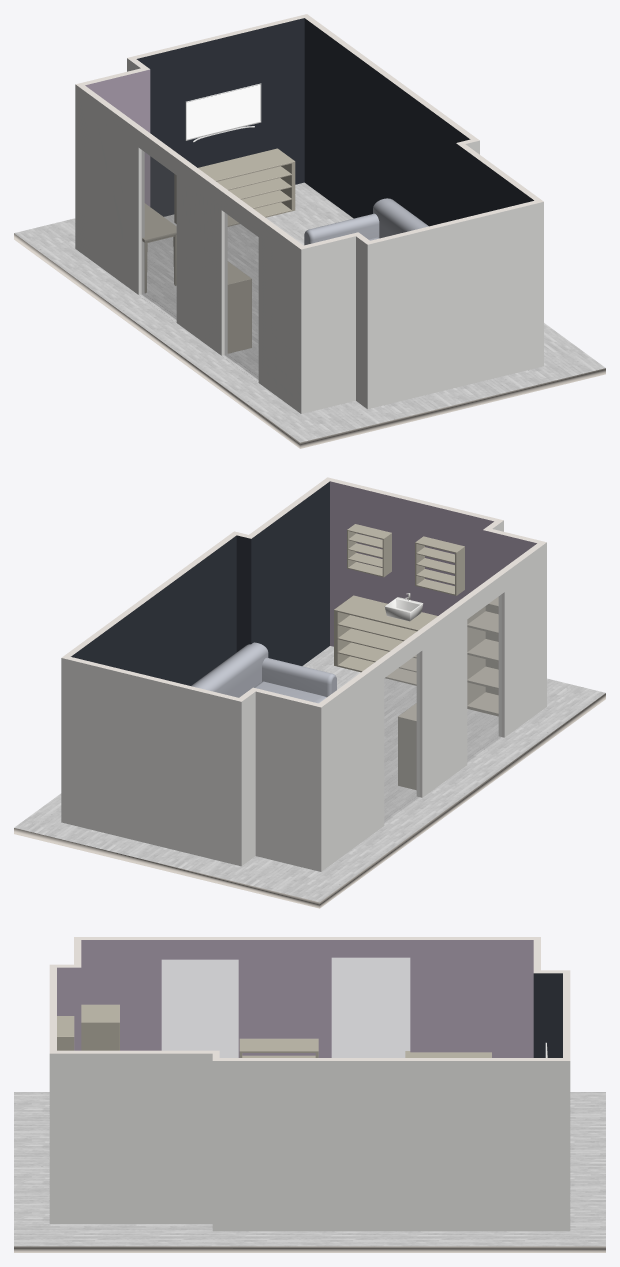
File: room.gltf
The picture shows the model from 3 angles, top to bottom: view 1: azimuth 30°, elevation 25°; view 2: azimuth 150°, elevation 25°; view 3: azimuth 270°, elevation 25°; orthographic projection. The views are drawn at different scales.
Visible parts, largest first — view 1: wall_2, wall_6, floor_0, wall_9, wall_3, wall_0, door_0, door_1, object_9, wall_7, object_6, wall_5 (+4 smaller); view 2: wall_3, wall_6, floor_0, wall_9, wall_2, wall_7, wall_5, door_0, door_1, object_5, object_7, object_3 (+7 smaller); view 3: wall_9, wall_6, wall_7, floor_0, door_0, door_1, wall_4, object_3, wall_1, object_0, wall_3, wall_2 (+2 smaller).
Boxes of the visible parts, x1=… form: wall_2: x1=367, y1=200, x2=543, y2=408; wall_6: x1=75, y1=84, x2=303, y2=413; floor_0: x1=14, y1=182, x2=605, y2=448; wall_9: x1=304, y1=14, x2=479, y2=226; wall_3: x1=128, y1=14, x2=306, y2=216; wall_0: x1=301, y1=232, x2=357, y2=413; door_0: x1=142, y1=150, x2=176, y2=319; door_1: x1=225, y1=213, x2=258, y2=379; object_9: x1=174, y1=148, x2=295, y2=226; wall_7: x1=456, y1=143, x2=543, y2=219; object_6: x1=185, y1=83, x2=261, y2=142; wall_5: x1=76, y1=68, x2=150, y2=206; wall_3: x1=61, y1=657, x2=241, y2=866; wall_6: x1=319, y1=542, x2=546, y2=871; floor_0: x1=14, y1=646, x2=605, y2=908; wall_9: x1=61, y1=531, x2=236, y2=685; wall_2: x1=328, y1=477, x2=502, y2=646; wall_7: x1=249, y1=477, x2=329, y2=665; wall_5: x1=253, y1=687, x2=321, y2=871; door_0: x1=384, y1=653, x2=419, y2=822; door_1: x1=467, y1=595, x2=501, y2=761; object_5: x1=334, y1=595, x2=437, y2=685; object_7: x1=191, y1=642, x2=336, y2=703; object_3: x1=467, y1=597, x2=498, y2=716; wall_9: x1=212, y1=1058, x2=570, y2=1231; wall_6: x1=74, y1=937, x2=540, y2=1057; wall_7: x1=49, y1=1050, x2=219, y2=1223; floor_0: x1=14, y1=1092, x2=605, y2=1252; door_0: x1=332, y1=958, x2=409, y2=1057; door_1: x1=162, y1=960, x2=238, y2=1057; wall_4: x1=533, y1=970, x2=568, y2=1057; object_3: x1=81, y1=1004, x2=119, y2=1050; wall_1: x1=50, y1=964, x2=81, y2=1050; object_0: x1=239, y1=1038, x2=318, y2=1057; wall_3: x1=563, y1=970, x2=570, y2=1060; wall_2: x1=49, y1=965, x2=56, y2=1053.
Size of the model in its own units: 5.1 by 2.72 by 8.27.
Materials: 45 (1 with a texture image).
